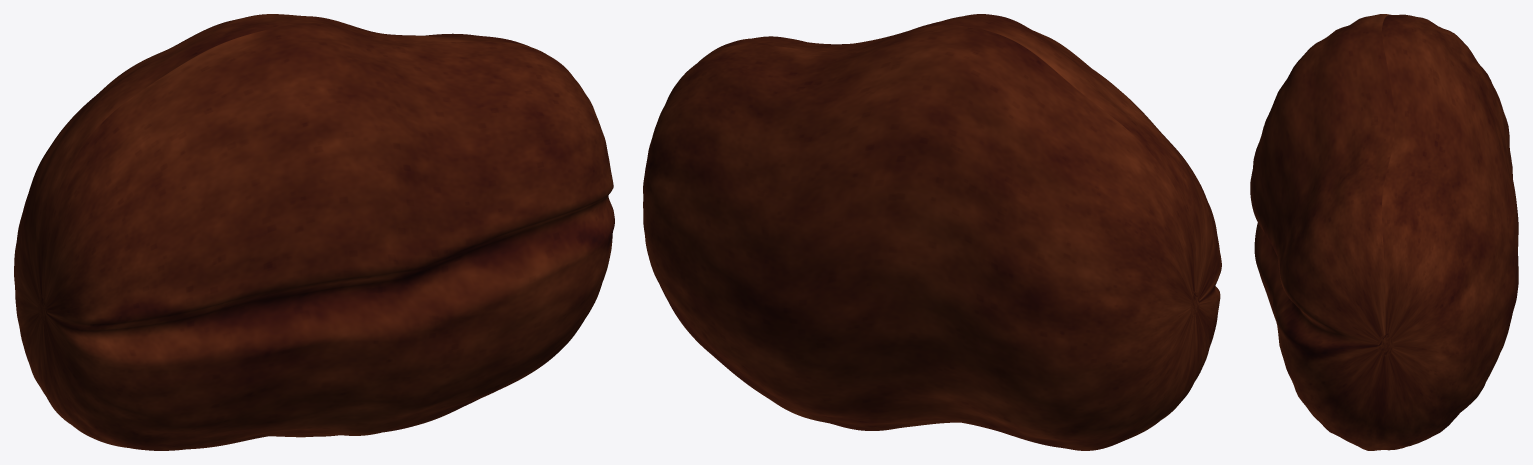
File: bourbon.glb
3 renders of one model, left to right at view 1: azimuth 30°, elevation 25°; view 2: azimuth 150°, elevation 25°; view 3: azimuth 270°, elevation 25°, orthographic. The views are drawn at different scales.
Parts seen in each view (by area): view 1: Cafe_bourbon; view 2: Cafe_bourbon; view 3: Cafe_bourbon.
Boxes of the visible parts, x1=… form: Cafe_bourbon: x1=14, y1=14, x2=614, y2=450; Cafe_bourbon: x1=643, y1=14, x2=1221, y2=450; Cafe_bourbon: x1=1250, y1=14, x2=1518, y2=450.
Bounding box in the file's own units: 0.0118 × 0.00886 × 0.00619.
Materials: 1 (1 with a texture image).
